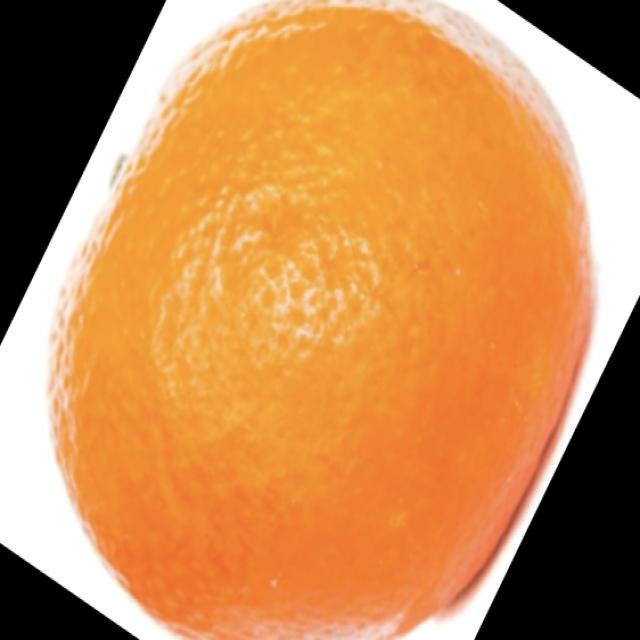matang: (50, 0, 592, 639)
